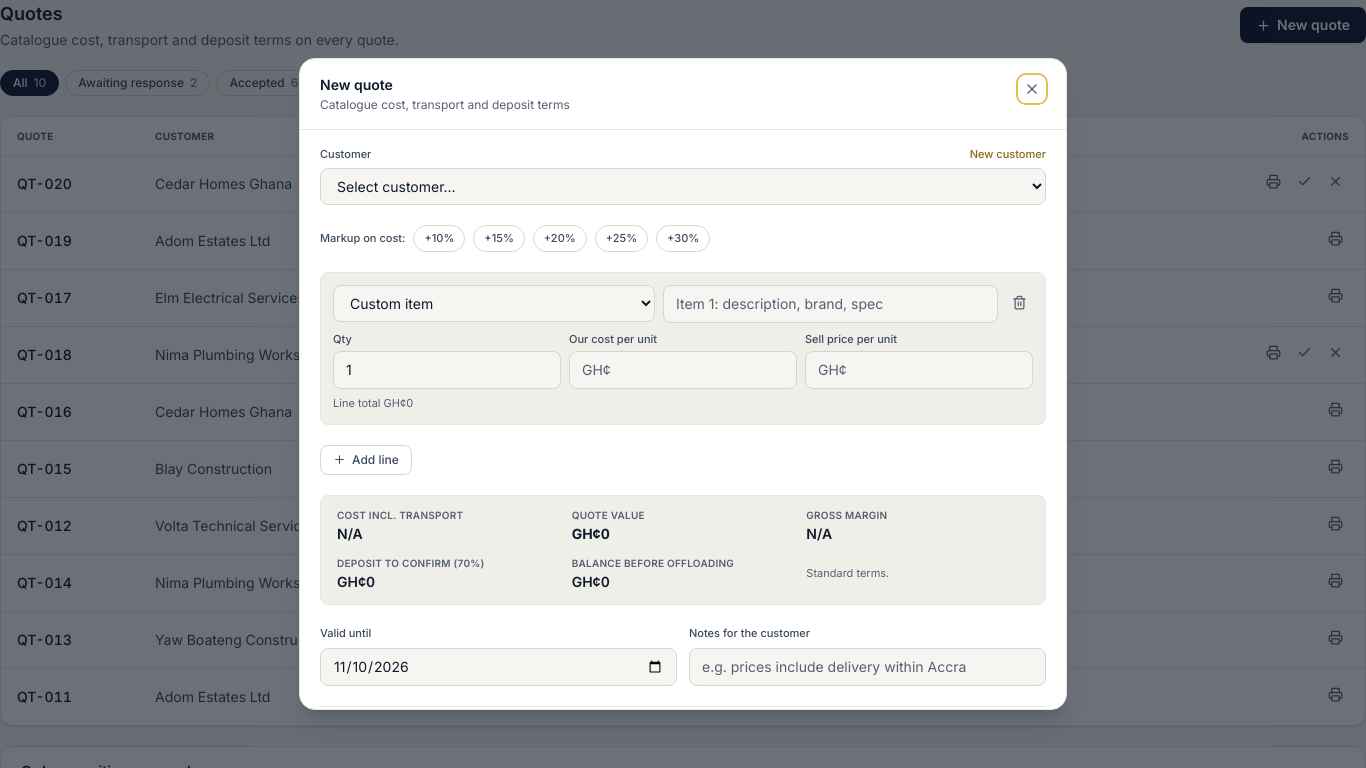
Test: quote builder › warns instead of auto-filling a stale supplier price
Select "Hager Distribution board · 12-way, MCB type" in the dropdown named "Line 1 catalogue product": (494, 303) [333, 285, 655, 322]
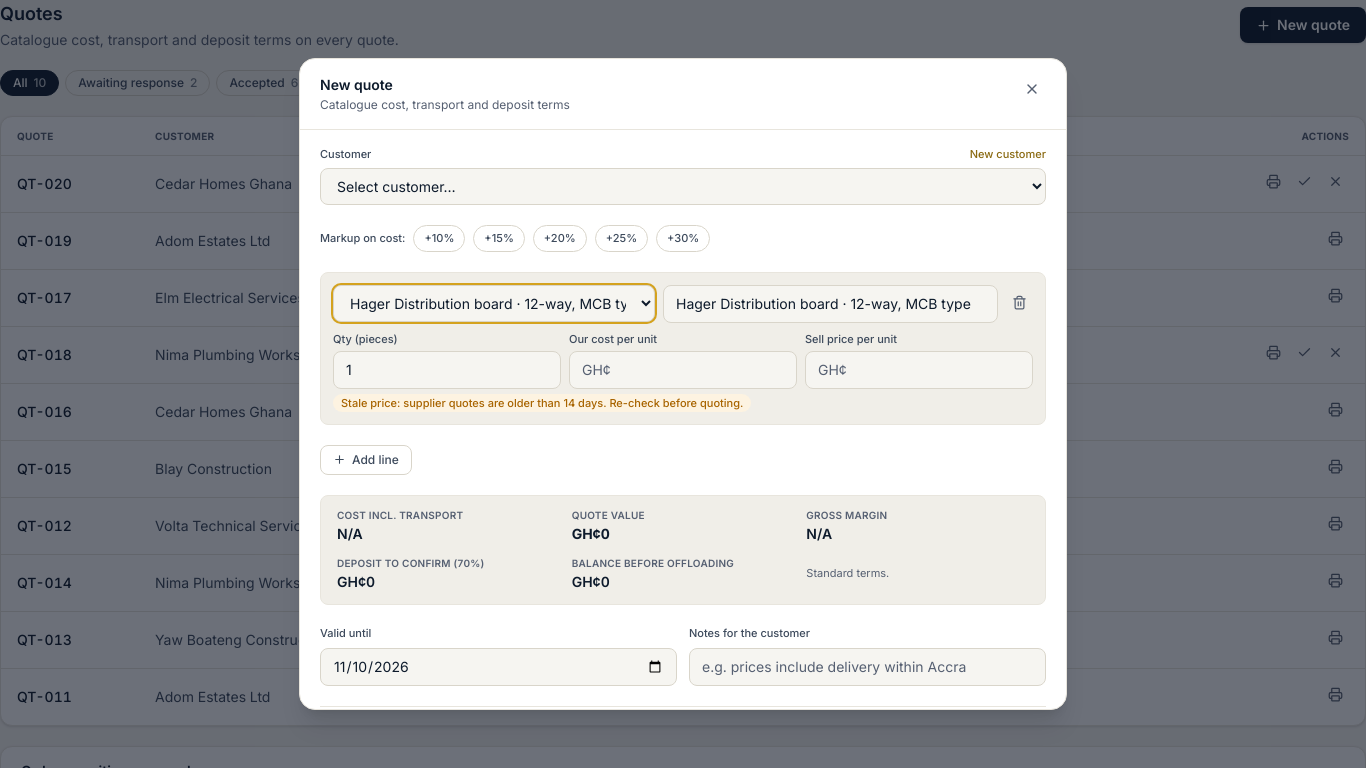
expect the field labelled "Our cost per unit" is empty: met, box [569, 351, 797, 389]
expect the text "Stale price" is shown: met, box [341, 396, 563, 410]
